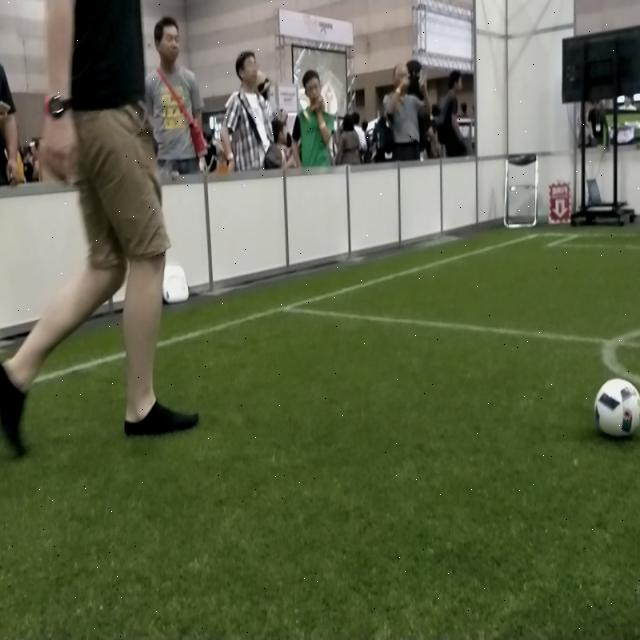ball: (592, 378, 640, 440)
